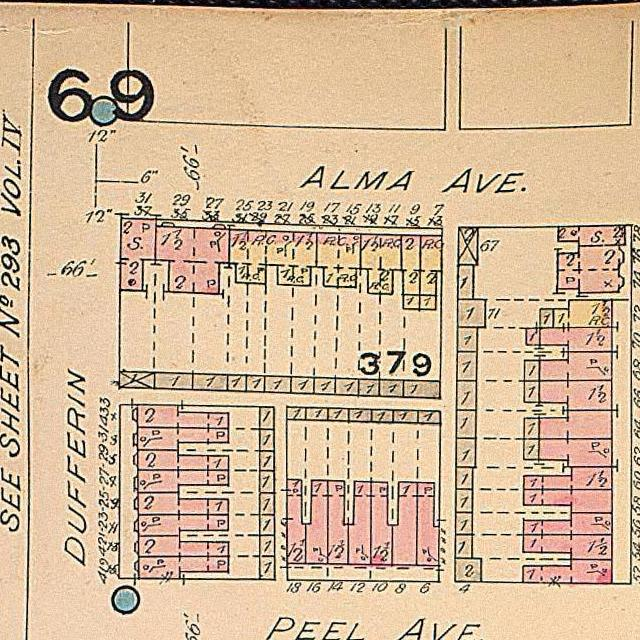building-footprints: (155, 226, 229, 293), (229, 229, 317, 285), (557, 225, 625, 292), (120, 218, 156, 290), (360, 234, 402, 294), (317, 232, 361, 286), (523, 534, 612, 559), (138, 404, 228, 428), (523, 559, 612, 583), (539, 351, 612, 380), (539, 381, 612, 410), (539, 410, 612, 439), (138, 427, 229, 450), (392, 482, 417, 565), (538, 439, 612, 467), (138, 469, 228, 492), (524, 489, 612, 512), (138, 492, 228, 514), (523, 512, 612, 534), (139, 556, 228, 578), (524, 467, 612, 489), (348, 481, 371, 564), (139, 536, 229, 557), (139, 514, 228, 535), (417, 482, 439, 565), (306, 480, 328, 563), (138, 450, 228, 470), (540, 327, 612, 351), (371, 482, 392, 564), (328, 480, 348, 564), (553, 299, 612, 327), (287, 479, 306, 563), (420, 235, 442, 295), (401, 235, 420, 295), (458, 227, 478, 265), (458, 299, 485, 327), (260, 535, 275, 579), (455, 558, 481, 581), (403, 381, 440, 397), (260, 492, 274, 534), (192, 374, 228, 390), (457, 380, 476, 410), (155, 373, 193, 388), (119, 371, 154, 387), (458, 351, 477, 380), (456, 437, 475, 466), (457, 410, 476, 437), (458, 265, 473, 299), (458, 327, 477, 351), (265, 376, 291, 392), (379, 379, 403, 396), (335, 378, 359, 394), (456, 467, 473, 489), (456, 489, 472, 512), (456, 535, 472, 558), (291, 377, 314, 393), (314, 377, 335, 394), (456, 512, 472, 534), (359, 379, 380, 395), (227, 374, 246, 391), (260, 406, 274, 429), (260, 429, 274, 451), (260, 470, 274, 492), (246, 375, 264, 392), (524, 418, 539, 438), (524, 439, 539, 459), (525, 360, 540, 380), (393, 410, 418, 422), (525, 380, 539, 401), (418, 410, 440, 423), (349, 408, 371, 421), (372, 409, 393, 422), (260, 451, 274, 470), (306, 407, 328, 419), (403, 294, 420, 309), (328, 408, 349, 420), (526, 328, 540, 345), (540, 309, 553, 327), (287, 407, 306, 419), (420, 295, 436, 309)
